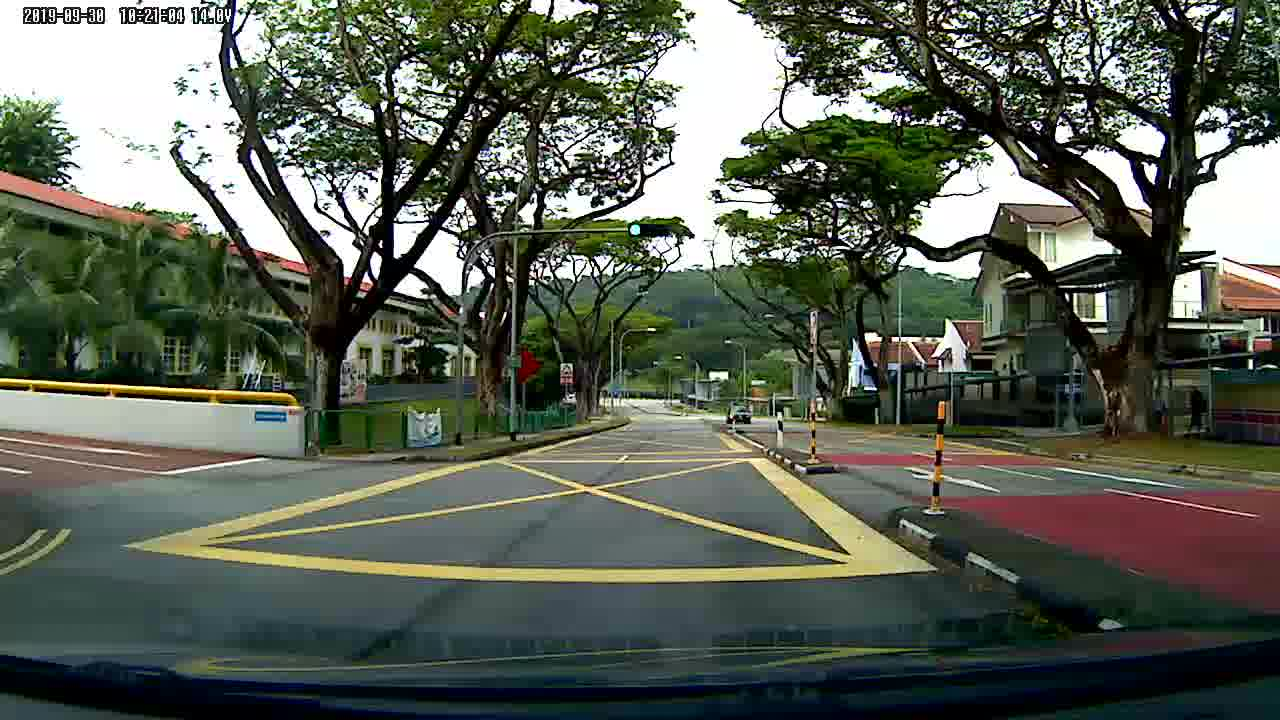car: (724, 403, 755, 422)
